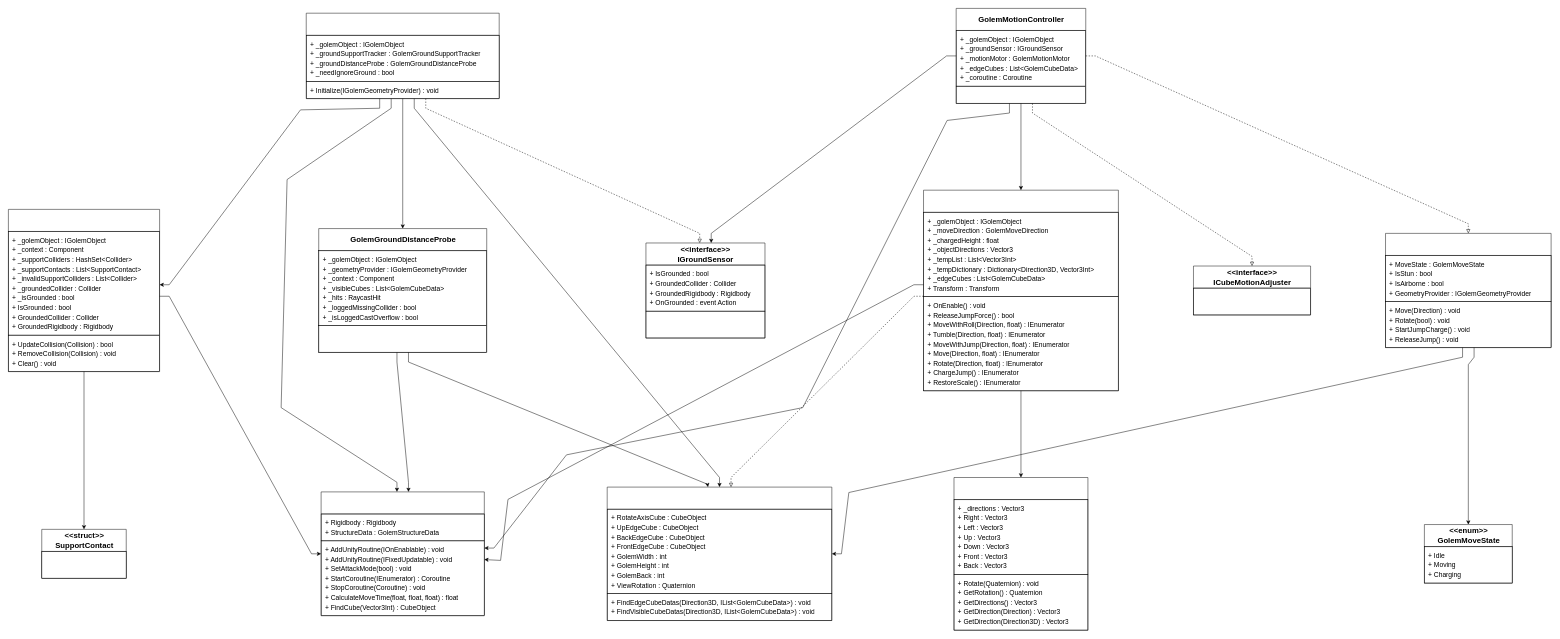
Some shapes in this 1560 by 639 pixel diagram are drawn without their labels. Each missing label, with the box of its shape:
+ ApplyKnockback(Vector3) : void + NormalizePose() : void: (1193, 288, 1311, 315)
+ collider : Collider + isValid : bool: (41, 551, 126, 578)
+ GetGroundDistance(float) : bool + Clear() : void: (318, 325, 487, 352)
+ GetGroundDistance(float) : bool + NotifyAirborne() : void: (645, 311, 765, 338)
+ OnEnable() : void: (956, 86, 1086, 103)
<<interface>> IGolemGeometryProvider: (607, 487, 832, 621)
<<interface>> IGolemMotionController: (1385, 233, 1551, 348)
<<interface>> IGolemObject: (321, 491, 484, 616)
<<MonoBehaviour>> GolemGroundSensor: (306, 13, 499, 99)
<<struct>> GolemMoveDirection: (954, 477, 1088, 630)
GolemGroundSupportTracker: (8, 209, 160, 372)
GolemMotionMotor: (923, 190, 1118, 391)
